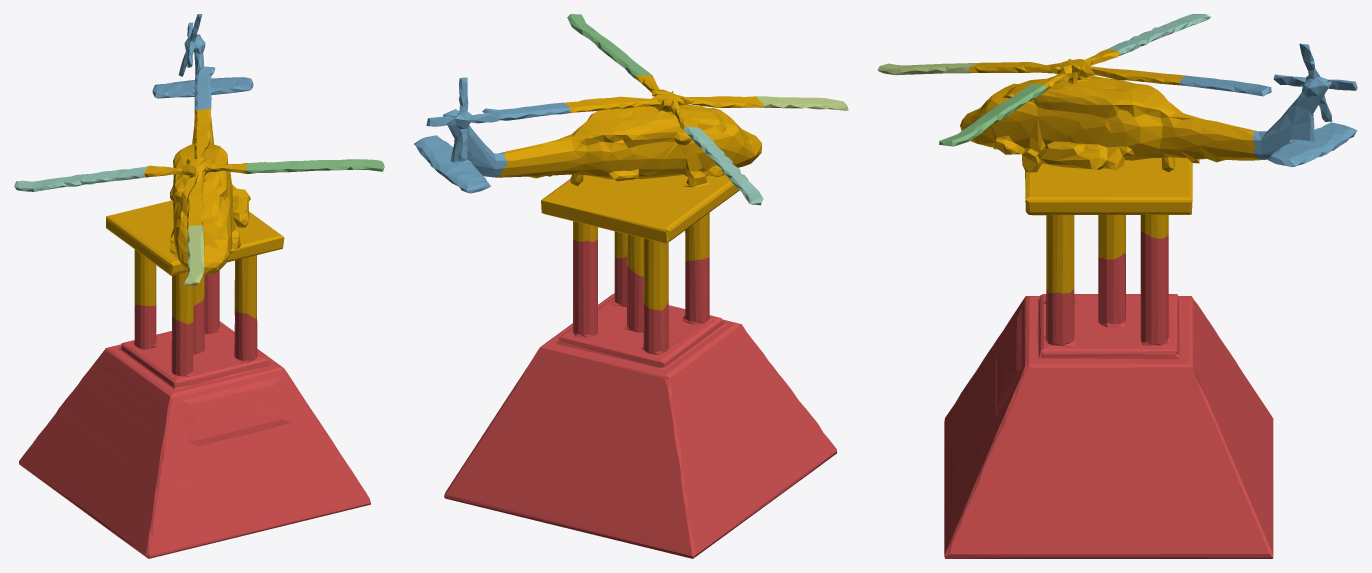
The model's file is fractured_32_6pcs.glb.
3 views of the same model, side by side, from view 1: azimuth 30°, elevation 25°; view 2: azimuth 150°, elevation 25°; view 3: azimuth 270°, elevation 25° (orthographic). The views are drawn at different scales.
Visible parts, largest first — view 1: piece_1.obj, piece_0.obj, piece_2.obj, piece_3.obj, piece_4.obj, piece_5.obj; view 2: piece_1.obj, piece_0.obj, piece_2.obj, piece_4.obj, piece_3.obj, piece_5.obj; view 3: piece_1.obj, piece_0.obj, piece_2.obj, piece_3.obj, piece_4.obj, piece_5.obj.
Part boxes in pixels (bbox=[...]): piece_1.obj: bbox=[19, 270, 370, 558]; piece_0.obj: bbox=[106, 108, 284, 324]; piece_2.obj: bbox=[152, 14, 253, 119]; piece_3.obj: bbox=[244, 159, 384, 173]; piece_4.obj: bbox=[14, 166, 147, 191]; piece_5.obj: bbox=[184, 225, 204, 285]; piece_1.obj: bbox=[444, 238, 836, 558]; piece_0.obj: bbox=[496, 75, 763, 310]; piece_2.obj: bbox=[414, 77, 570, 193]; piece_4.obj: bbox=[683, 126, 763, 205]; piece_3.obj: bbox=[567, 14, 652, 79]; piece_5.obj: bbox=[756, 96, 848, 110]; piece_1.obj: bbox=[944, 229, 1273, 558]; piece_0.obj: bbox=[960, 49, 1261, 293]; piece_2.obj: bbox=[1180, 43, 1357, 166]; piece_3.obj: bbox=[939, 83, 1045, 146]; piece_4.obj: bbox=[1107, 14, 1211, 55]; piece_5.obj: bbox=[877, 63, 977, 75].
Bounding box in the file's own units: 0.7297 × 1 × 0.8749.
